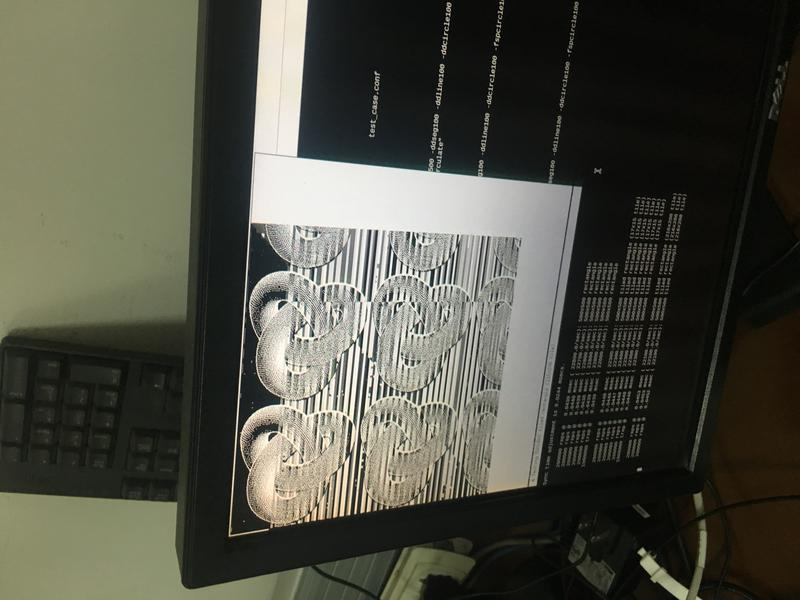xrandr_pass: (218, 131, 585, 544)
